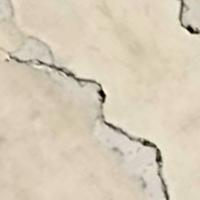crack: (9, 42, 182, 199)
